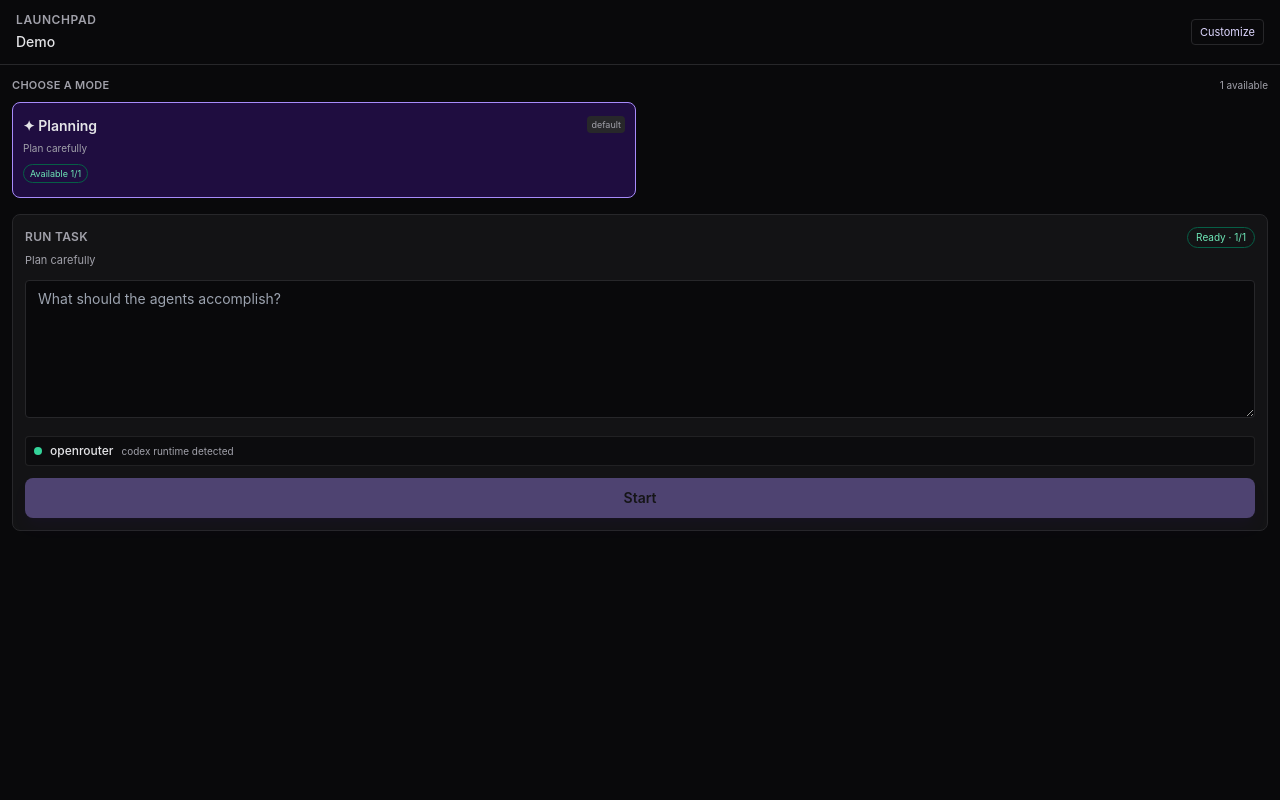
Test case: WorkflowPanel › keeps built-in OpenRouter model and version choices available when catalog refresh fails
This screenshot has width=1280, height=800.
Click the button "Customize" at (1227, 32), box [1191,19,1264,45]
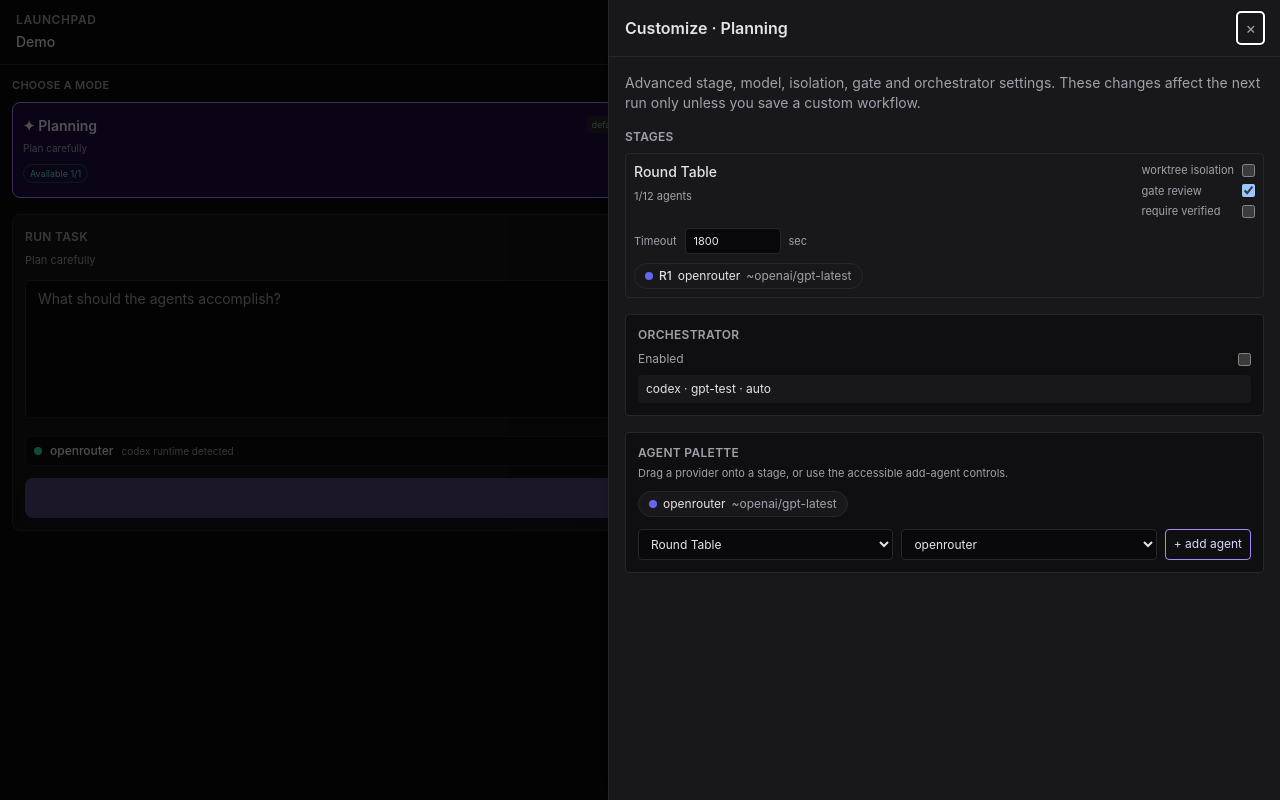
Click the button "R1 openrouter ~openai/gpt-latest" at (748, 276), box [634,262,862,289]
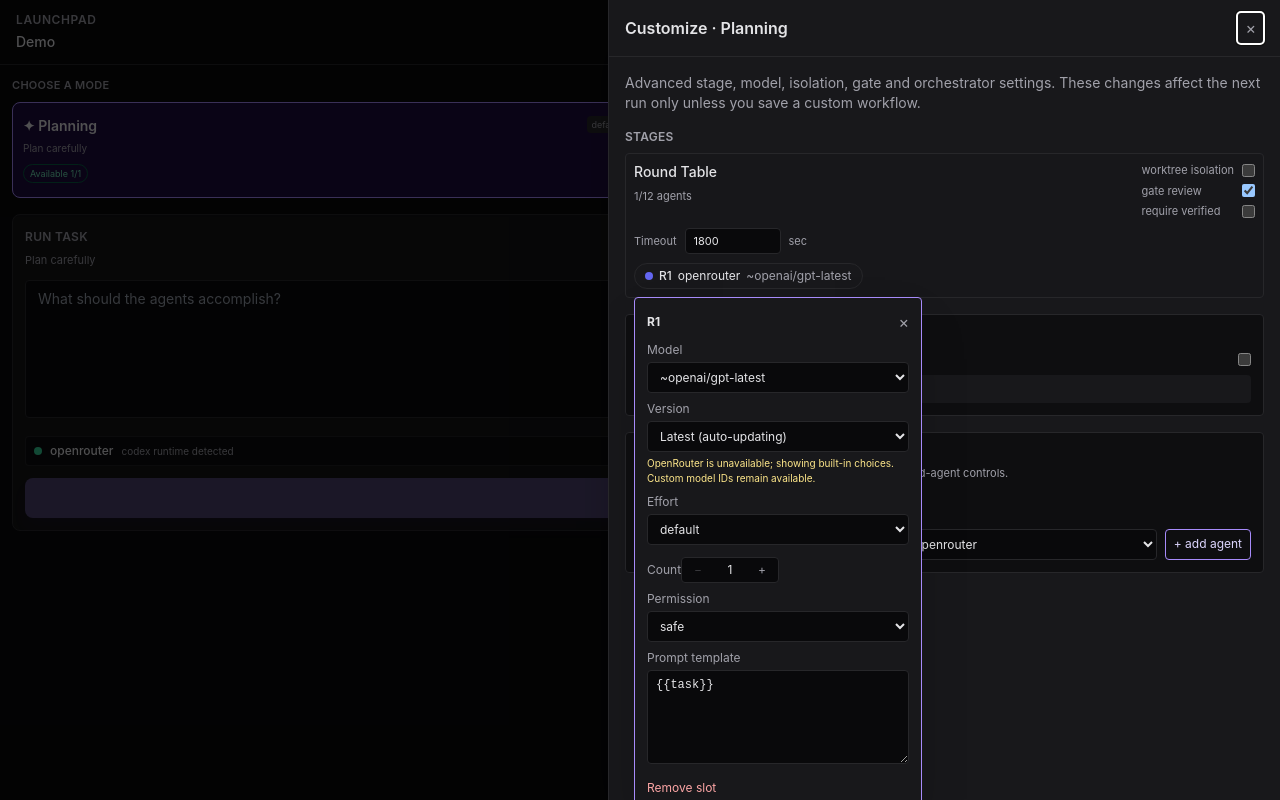
Expected: the text "OpenRouter is unavailable; showing built-in choices. Custom model IDs remain available." is shown, [647,457,894,484]
Expected: the dropdown labelled "Model" shows "~openai/gpt-latest", [647,362,909,393]
Expected: the dropdown labelled "Version" shows "Latest (auto-updating)", [647,421,909,452]
